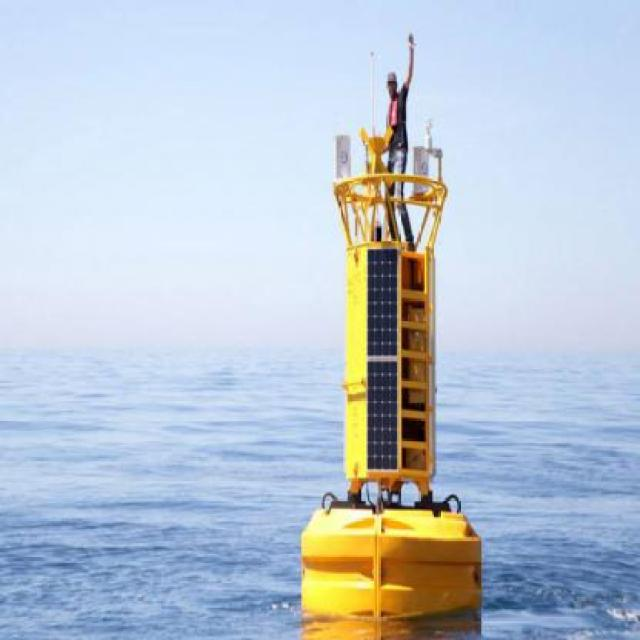a: (293, 37, 487, 619), (270, 238, 498, 629)
